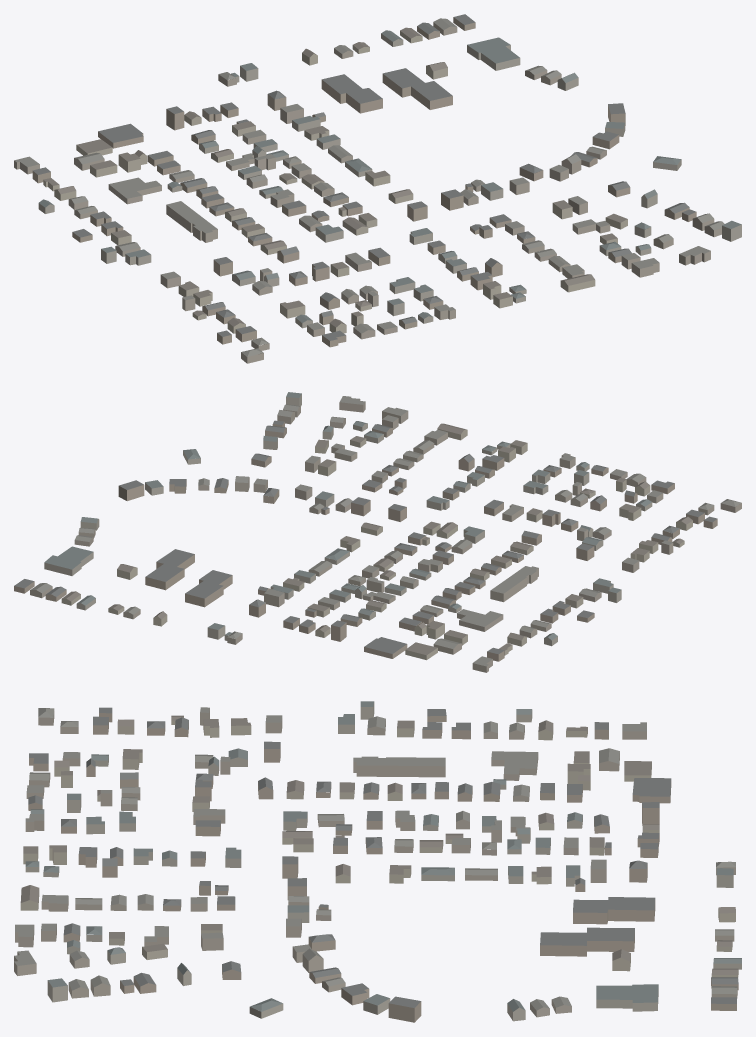
File: 967081b6d9f0-chunk-1202_11840.glb
3 views of the same model, one above another, from view 1: azimuth 30°, elevation 25°; view 2: azimuth 150°, elevation 25°; view 3: azimuth 270°, elevation 25° (orthographic). The views are drawn at different scales.
Visible parts, largest first — view 1: building_136769, building_159668, building_91891, building_152834, building_28261, building_62967; view 2: building_136769, building_159668, building_91891, building_152834, building_28261, building_62967; view 3: building_136769, building_159668, building_152834, building_91891, building_28261, building_62967, building_65977.
Boxes of the visible parts, x1=… form: building_136769: x1=382, y1=68, x2=452, y2=109; building_159668: x1=321, y1=74, x2=382, y2=113; building_91891: x1=467, y1=37, x2=520, y2=70; building_152834: x1=166, y1=201, x2=217, y2=242; building_28261: x1=108, y1=177, x2=161, y2=204; building_62967: x1=98, y1=123, x2=143, y2=148; building_136769: x1=145, y1=549, x2=194, y2=590; building_159668: x1=185, y1=570, x2=232, y2=607; building_91891: x1=44, y1=546, x2=93, y2=575; building_152834: x1=490, y1=566, x2=538, y2=602; building_28261: x1=457, y1=609, x2=503, y2=631; building_62967: x1=364, y1=637, x2=407, y2=658; building_136769: x1=540, y1=927, x2=634, y2=956; building_159668: x1=573, y1=897, x2=655, y2=924; building_152834: x1=353, y1=756, x2=445, y2=777; building_91891: x1=596, y1=984, x2=658, y2=1011; building_28261: x1=491, y1=751, x2=538, y2=780; building_62967: x1=632, y1=778, x2=671, y2=803; building_65977: x1=388, y1=996, x2=421, y2=1022.
Bounding box in the file's own units: 391 × 11.3 × 389.
